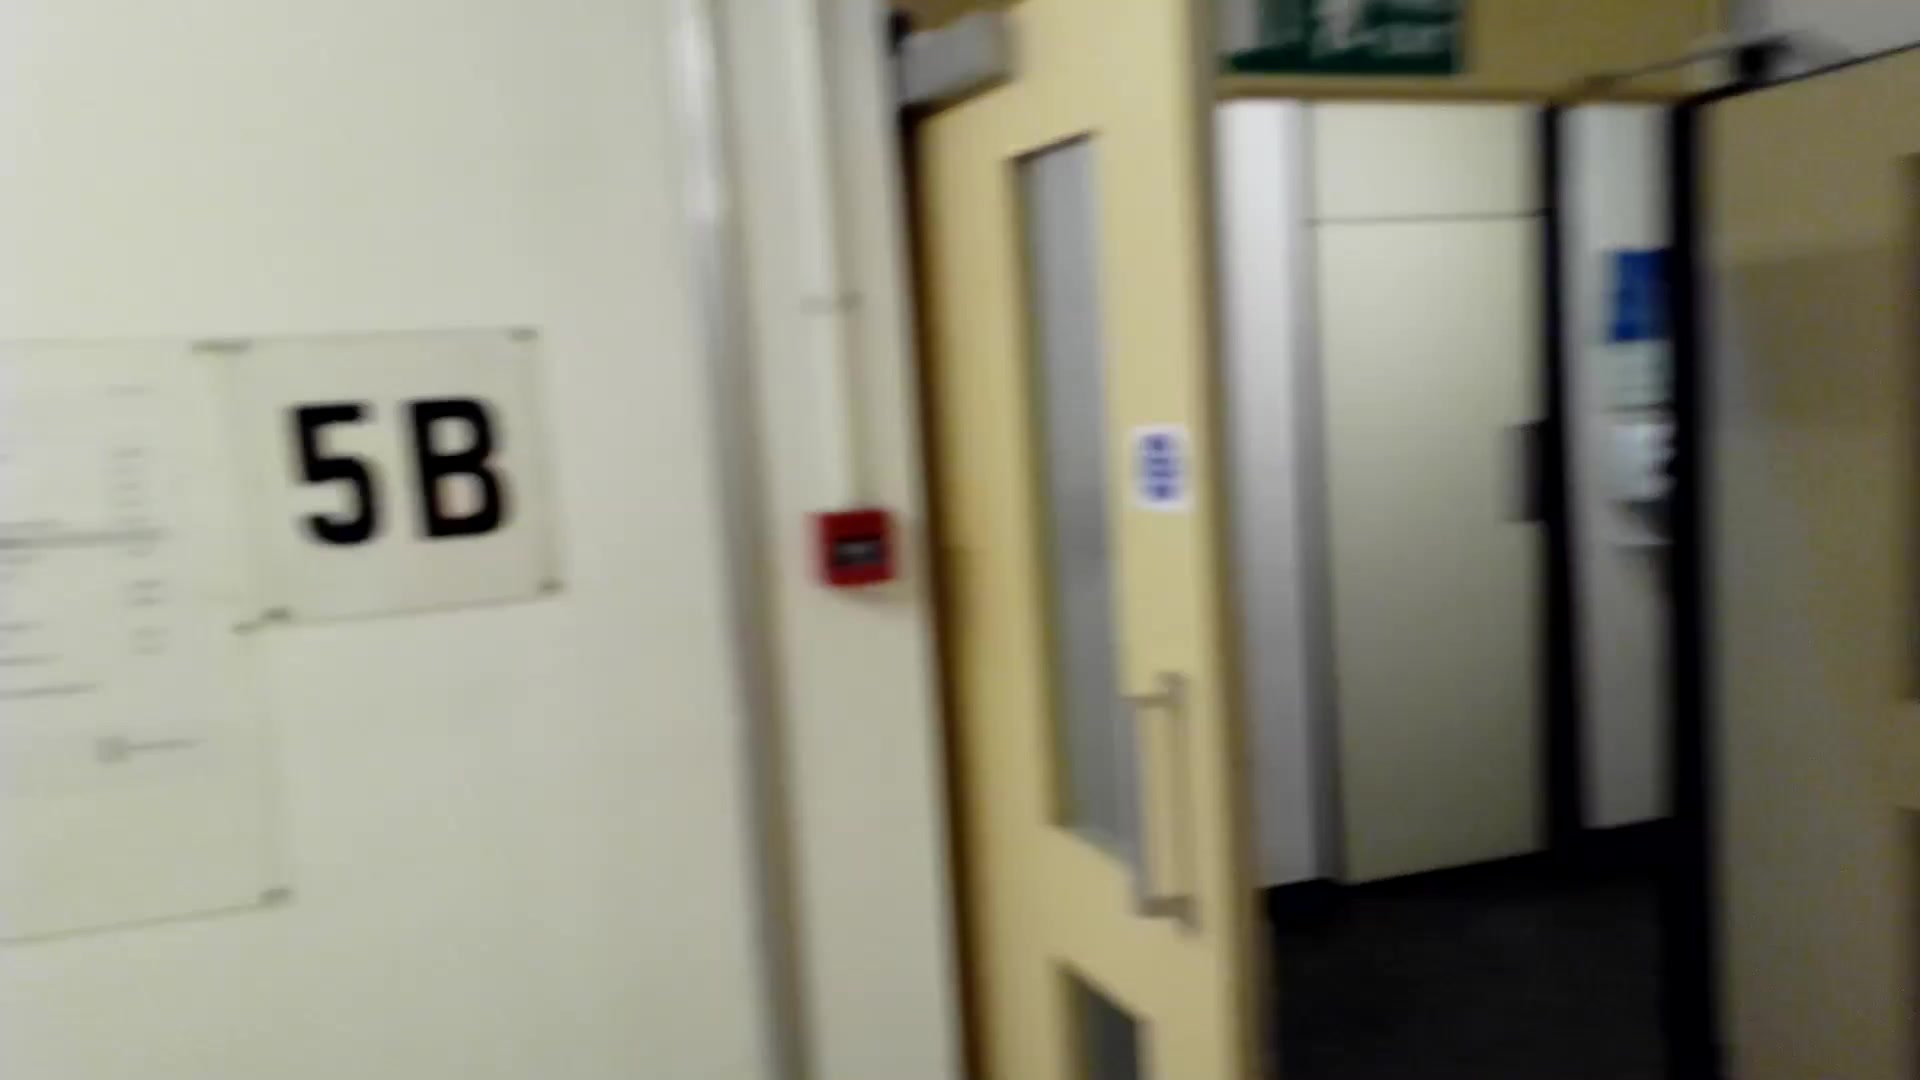Door: (881, 25, 1320, 1080)
